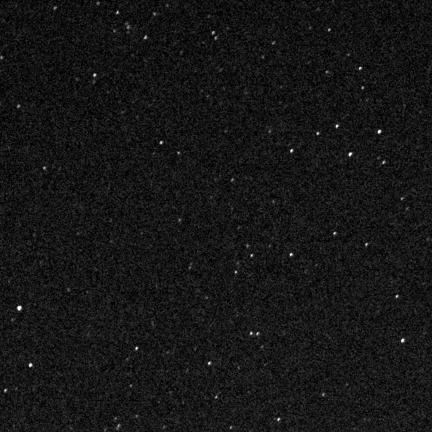blob: (17, 306, 21, 311), (396, 295, 400, 299), (378, 130, 381, 134), (401, 339, 404, 343), (29, 363, 32, 367), (349, 152, 352, 156), (290, 149, 293, 153), (333, 232, 337, 235), (336, 125, 339, 128), (365, 243, 368, 246), (359, 67, 362, 70), (290, 253, 293, 256)
